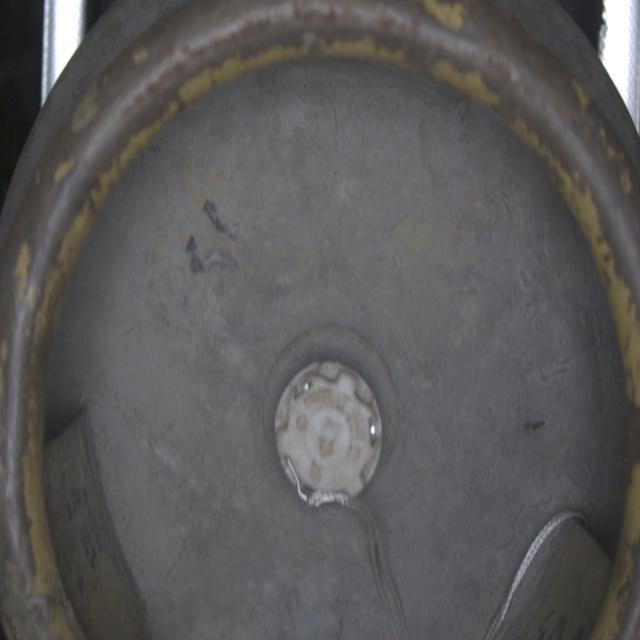Cap: (271, 356, 384, 505)
